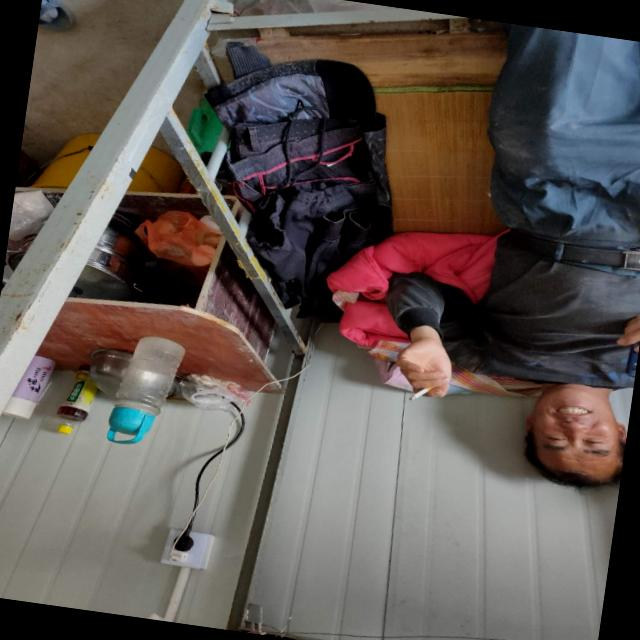cigarette: (406, 382, 431, 407)
